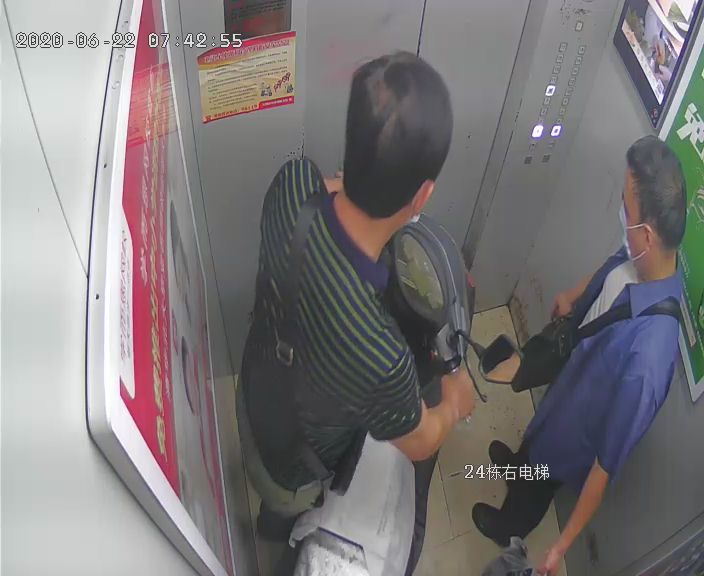Electric-bicycle: (290, 224, 513, 576)
